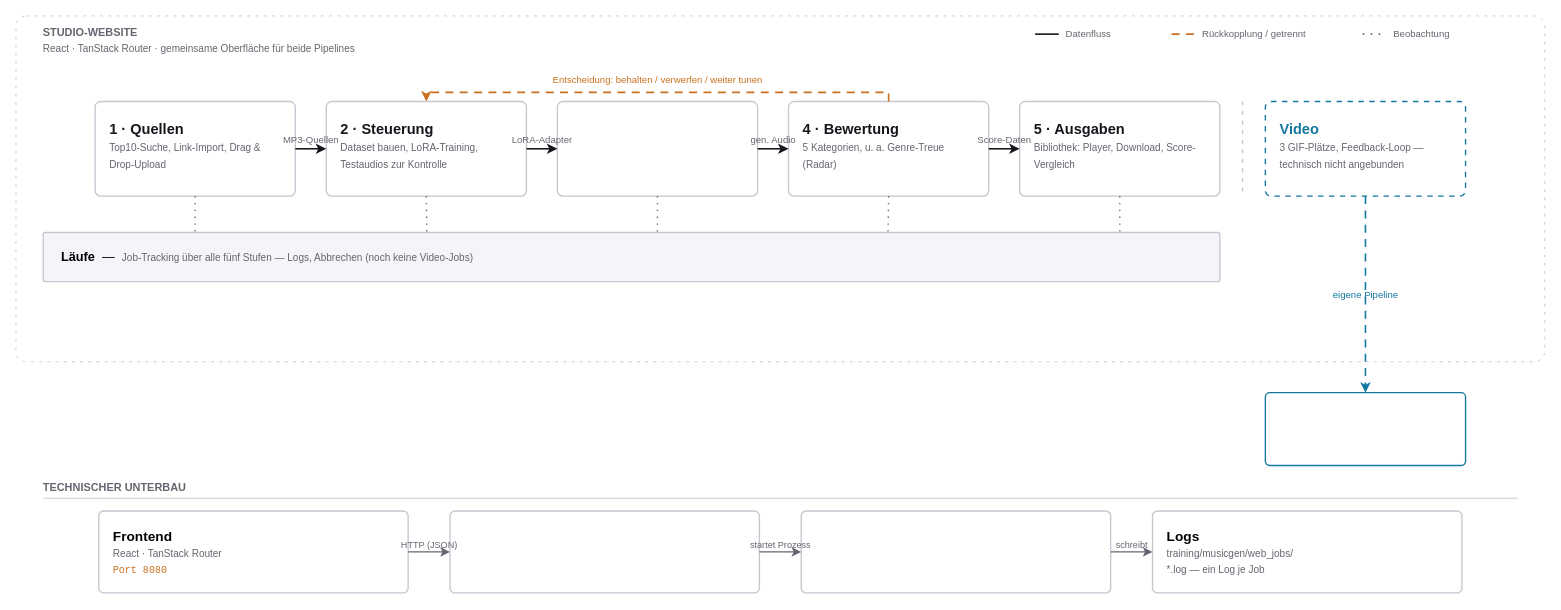
This 1561x610 diagram has some shape labels left out. Each missing label, with the box of its shape:
3 · Audio Longform-Generierung mit freigegebenem Adapter: (556, 100, 758, 196)
Backend web_api.py · http.server Port 8000: (449, 510, 760, 593)
lofi_pipeline/ LTX-Video, getrennter Code Feedback-UI: Port 7860: (1264, 392, 1466, 466)
Scripts subprocess.Popen z. B. lora.py, audio_erstellen.py: (800, 510, 1111, 593)
